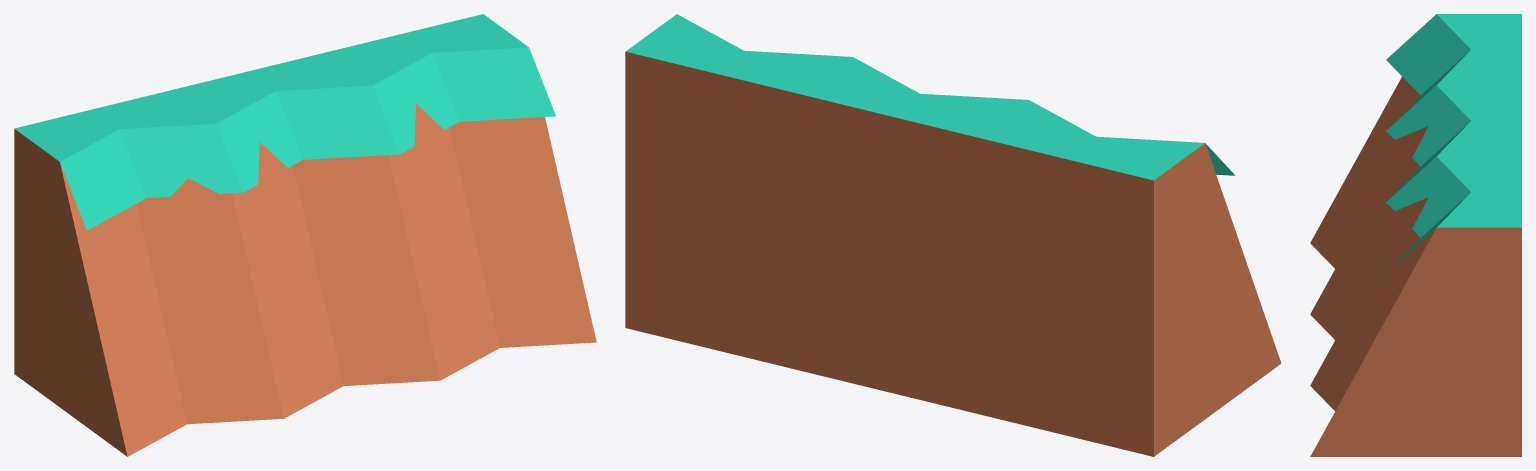
File: cliff_half_rock.dae
The picture shows the model from 3 angles, left to right: view 1: azimuth 30°, elevation 25°; view 2: azimuth 150°, elevation 25°; view 3: azimuth 270°, elevation 25°; orthographic projection. The views are drawn at different scales.
Parts seen in each view (by area): view 1: cliff_half_rock; view 2: cliff_half_rock; view 3: cliff_half_rock.
Boxes of the visible parts, x1,y1,x2,y2 form: cliff_half_rock: [14, 14, 596, 456]; cliff_half_rock: [625, 14, 1281, 456]; cliff_half_rock: [1310, 14, 1521, 456].
Size of the model in its own units: 1 by 0.5 by 0.4185.
